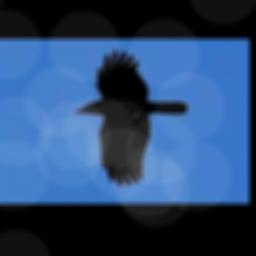Crow: (75, 50, 187, 186)
